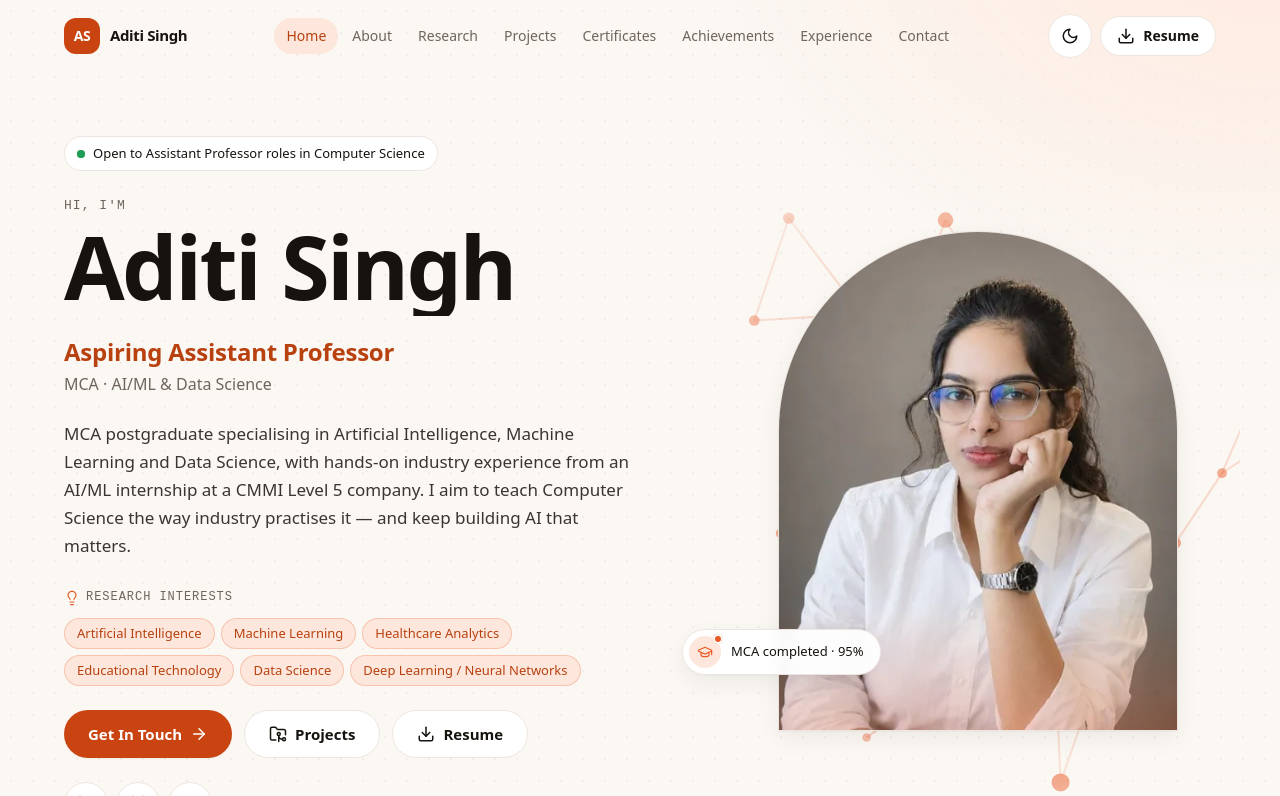
Test: Theme toggle › switches to dark and remembers the choice
Click the button named "Switch to dark theme".
click(1070, 36)  # box [1048, 14, 1092, 58]
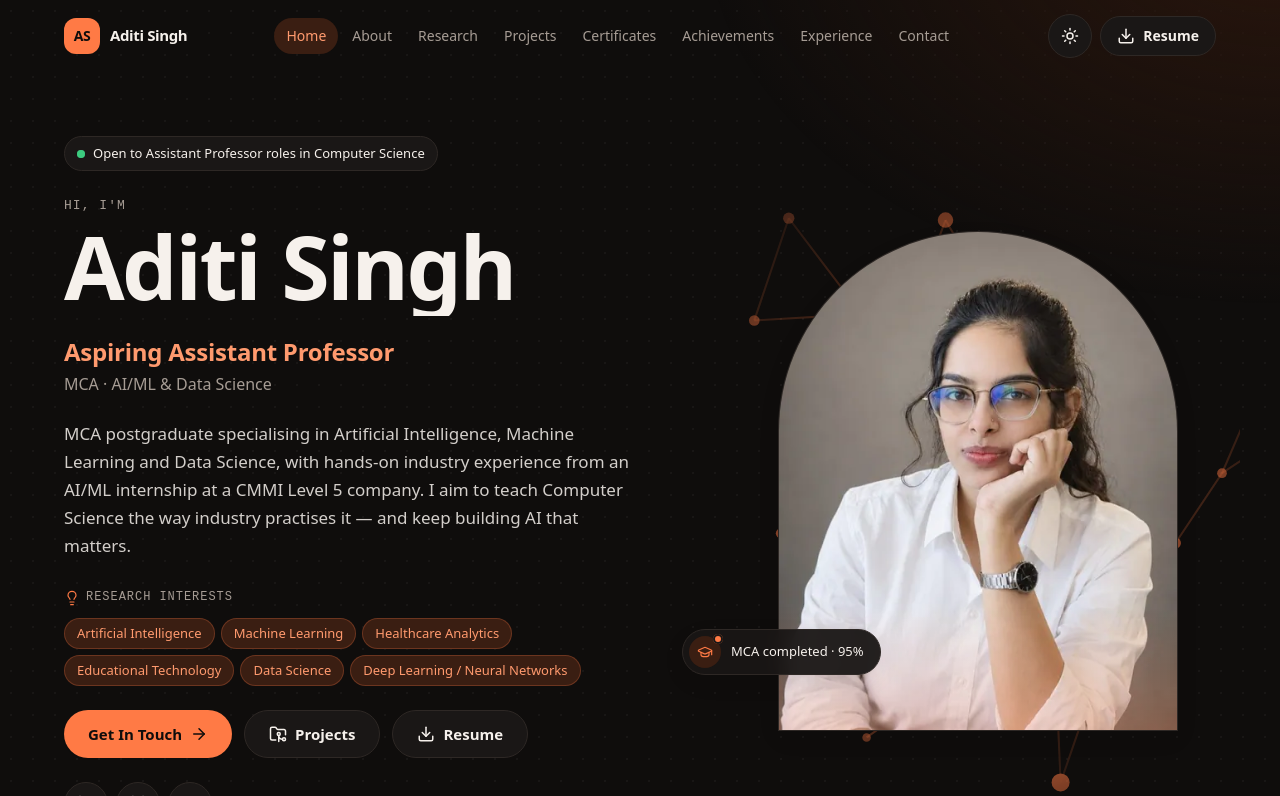
Expected: the button named "Switch to light theme" is shown, [1048, 14, 1092, 58]
